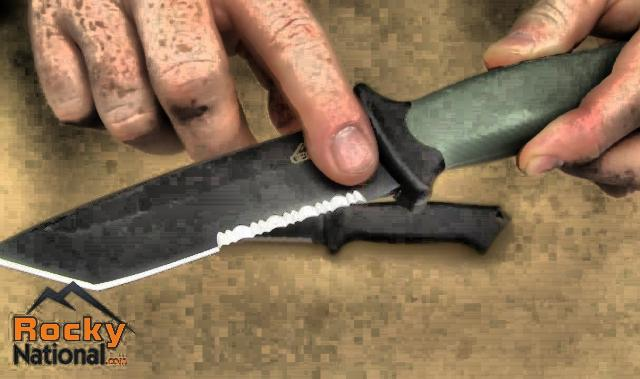knife: (1, 32, 634, 302)
